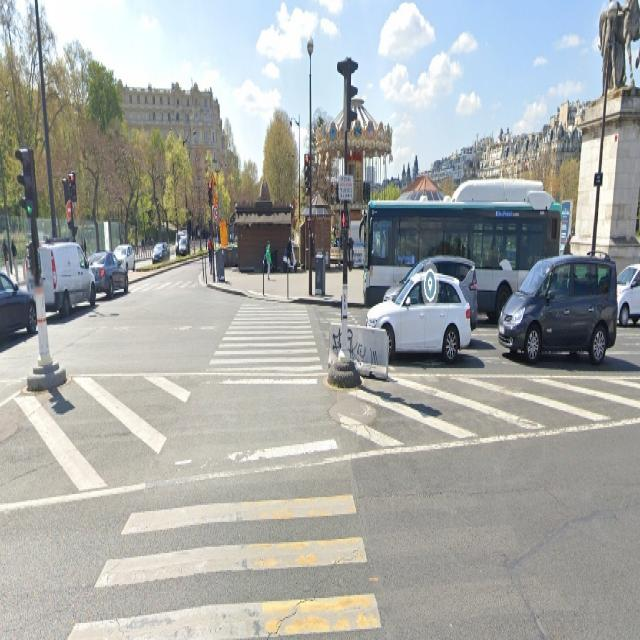bus: (360, 177, 563, 335)
